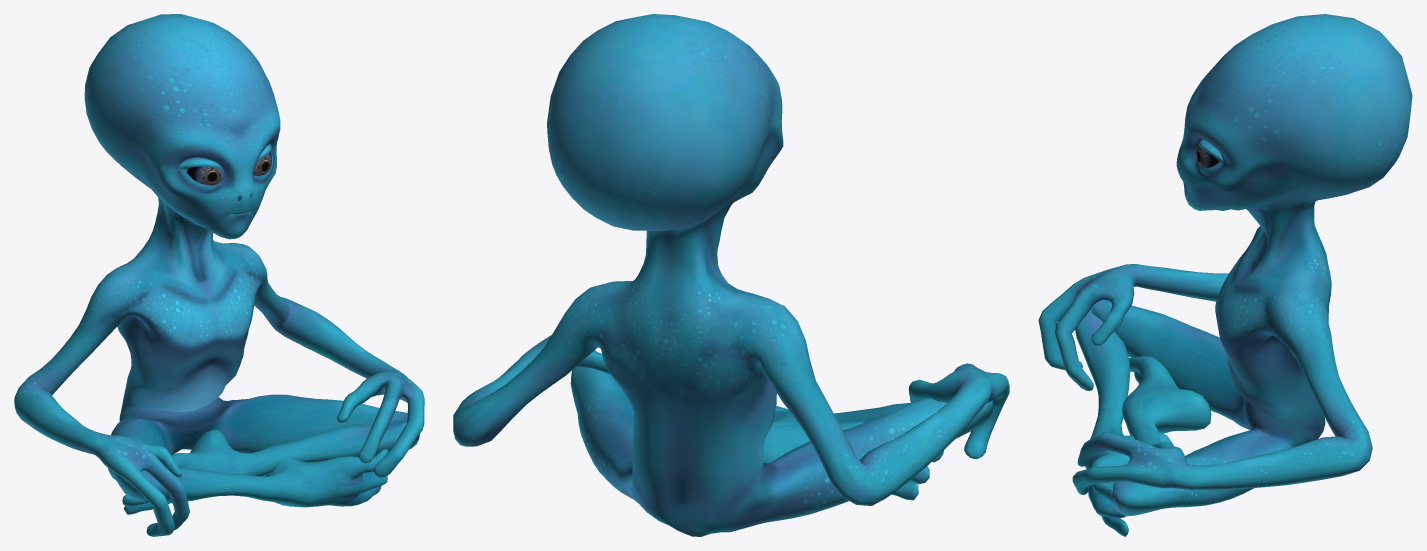
The model's file is alien.glb.
3 renders of one model, left to right at view 1: azimuth 30°, elevation 25°; view 2: azimuth 150°, elevation 25°; view 3: azimuth 270°, elevation 25°, orthographic. The views are drawn at different scales.
Visible parts, largest first — view 1: node_id5_Material_50_0; view 2: node_id5_Material_50_0; view 3: node_id5_Material_50_0.
Boxes of the visible parts, x1,y1,x2,y2 form: node_id5_Material_50_0: [14, 14, 424, 536]; node_id5_Material_50_0: [453, 14, 1009, 536]; node_id5_Material_50_0: [1038, 14, 1412, 536].
Bounding box in the file's own units: 59.96 × 71.15 × 52.85.
1 material, 1 textured.
